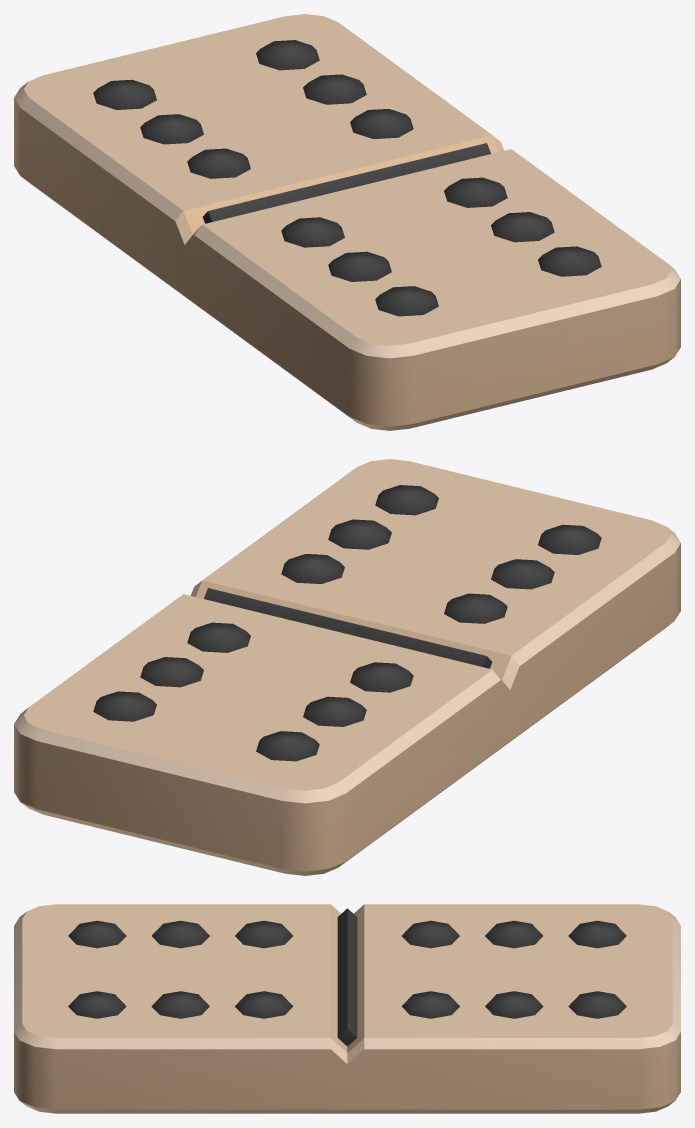
Rendered from domino_tile_6-6.obj.
The picture shows the model from 3 angles, top to bottom: view 1: azimuth 30°, elevation 25°; view 2: azimuth 150°, elevation 25°; view 3: azimuth 270°, elevation 25°; orthographic projection. The views are drawn at different scales.
Visible parts, largest first — view 1: domino_tile_6-6; view 2: domino_tile_6-6; view 3: domino_tile_6-6.
Boxes of the visible parts, bbox=[...] form: domino_tile_6-6: bbox=[14, 14, 680, 430]; domino_tile_6-6: bbox=[14, 459, 680, 875]; domino_tile_6-6: bbox=[14, 904, 680, 1113].
Bounding box in the file's own units: 1 × 0.2767 × 2.
1 material, 1 textured.
